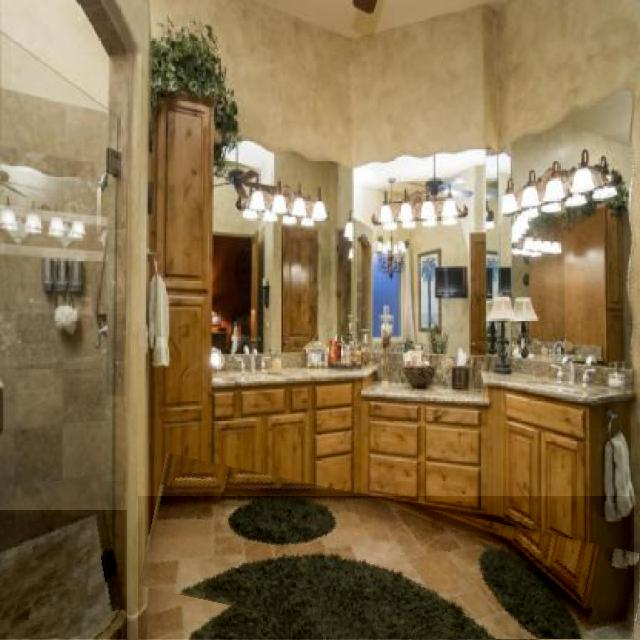floor: (138, 496, 634, 640), (0, 510, 127, 639)
